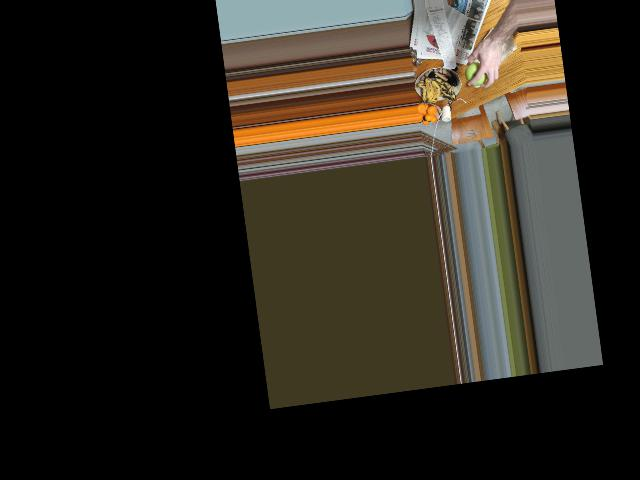apple: (464, 60, 489, 87)
